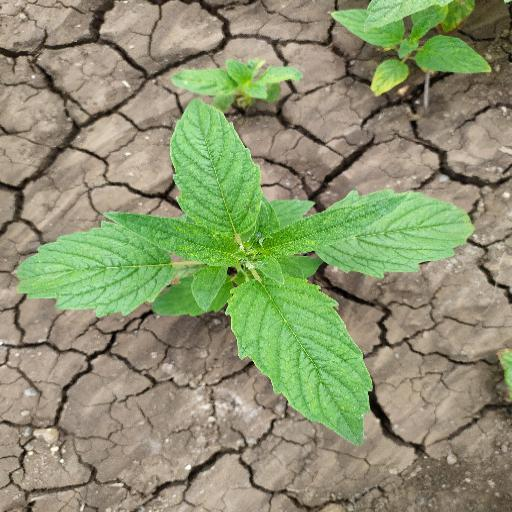crop: (12, 97, 474, 440)
